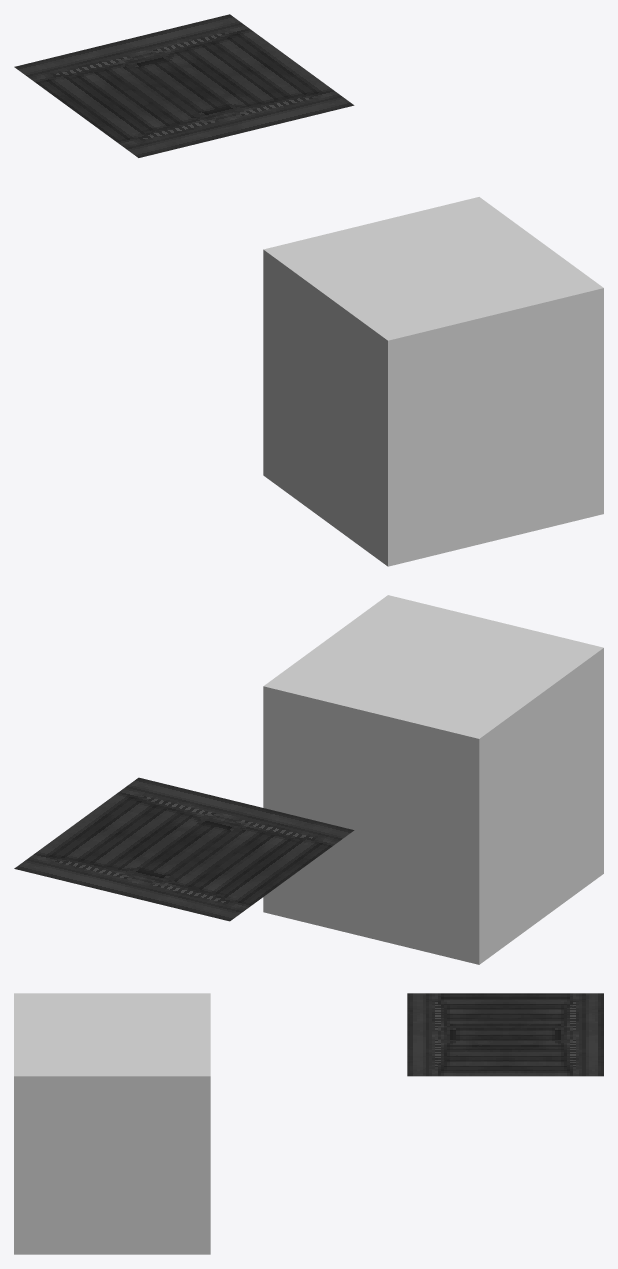
The model's file is grid map tiles.fbx.
3 views of the same model, one above another, from view 1: azimuth 30°, elevation 25°; view 2: azimuth 150°, elevation 25°; view 3: azimuth 270°, elevation 25° (orthographic). The views are drawn at different scales.
Visible parts, largest first — view 1: Cube, floor; view 2: Cube, floor; view 3: Cube, floor.
Boxes of the visible parts, x1,y1,x2,y2 form: Cube: (263, 197, 603, 566); floor: (14, 14, 354, 157); Cube: (263, 595, 603, 964); floor: (14, 777, 354, 921); Cube: (14, 993, 210, 1254); floor: (407, 993, 603, 1076).
Bounding box in the file's own units: 100 × 100 × 300.
